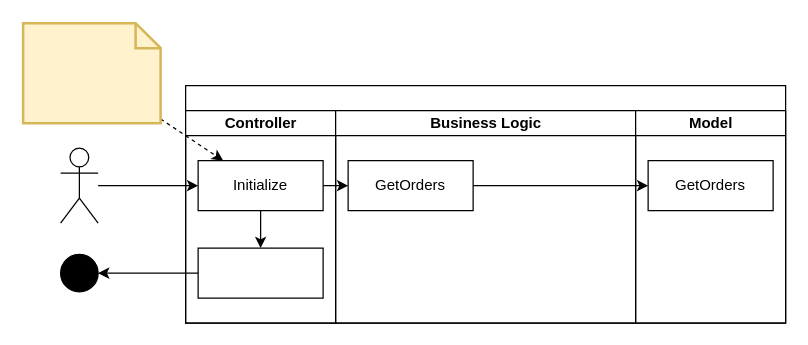
Some shapes in this 808 by 345 pixel diagram are drawn without their labels. The shapes that lost their labels are listed below. From the top down, each one's centre as x and y in pixels, then its label:
At (91,72): "Go to order overview page".
At (78,185): "Admin".
At (260,272): "ShowOrders".
